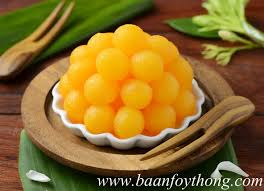tongyod: (110, 107, 147, 138), (83, 73, 119, 104), (83, 104, 117, 136), (128, 52, 166, 79), (145, 102, 176, 135), (95, 49, 130, 78), (120, 81, 157, 107), (113, 24, 146, 52), (151, 35, 179, 67), (153, 71, 180, 104), (68, 46, 97, 70)
